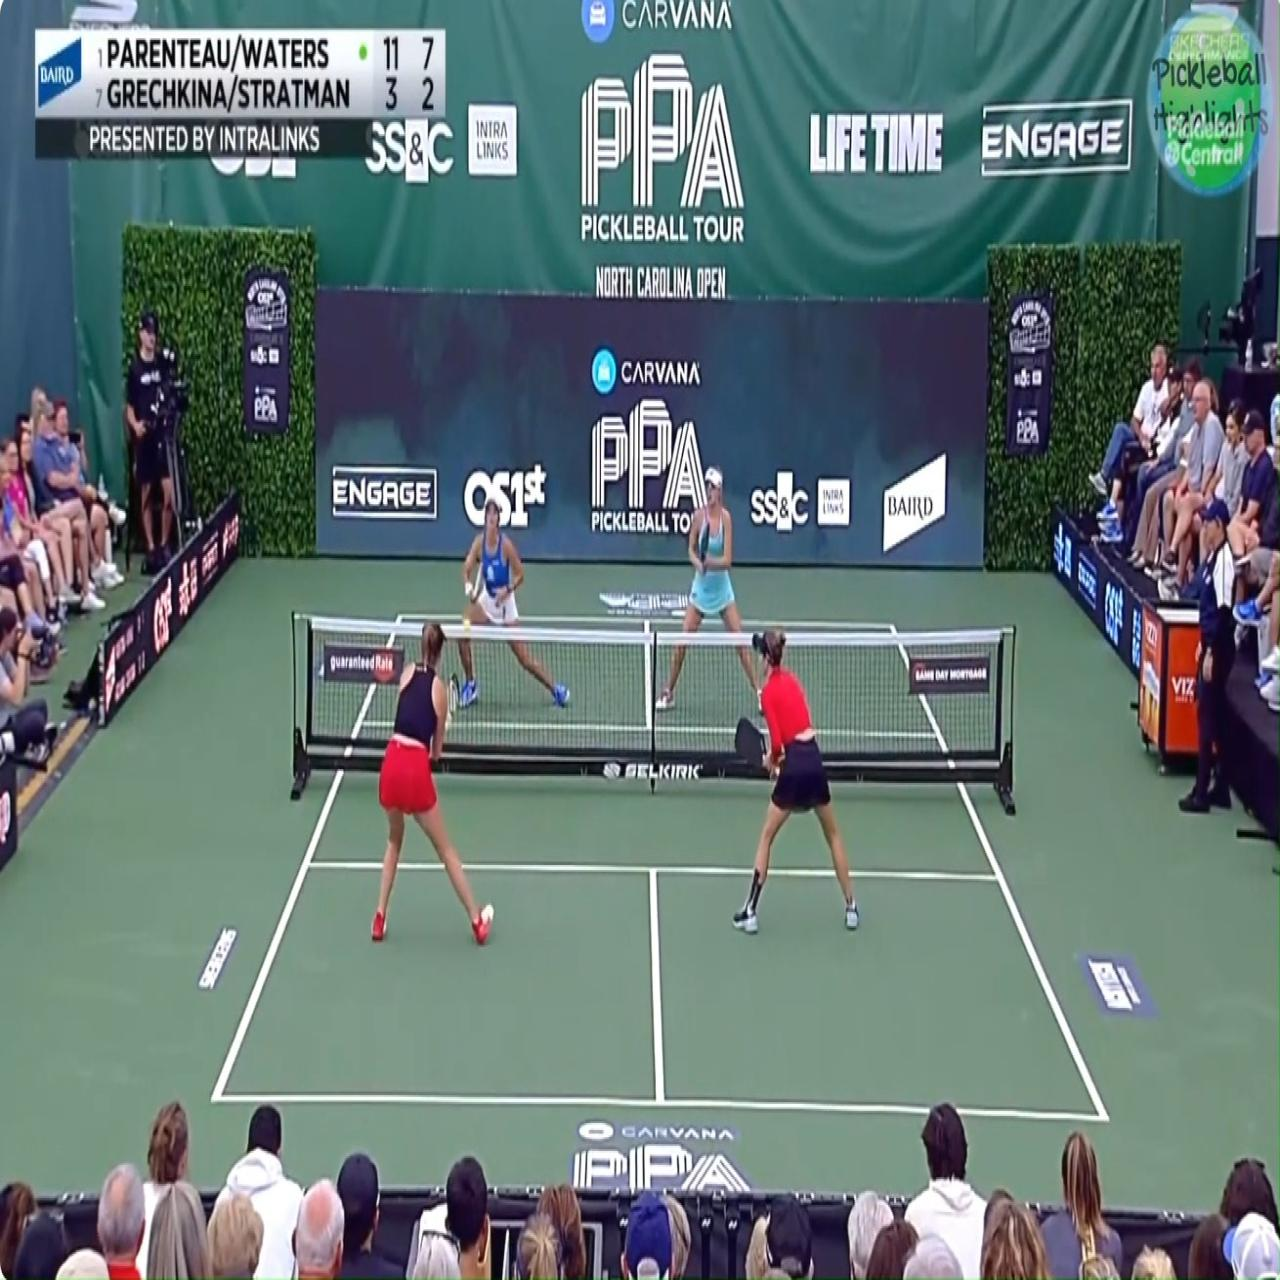pickleball: (463, 619, 471, 632)
